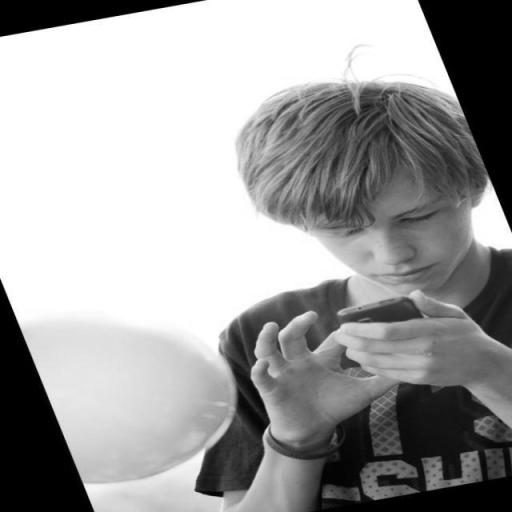phone: (331, 295, 430, 330)
